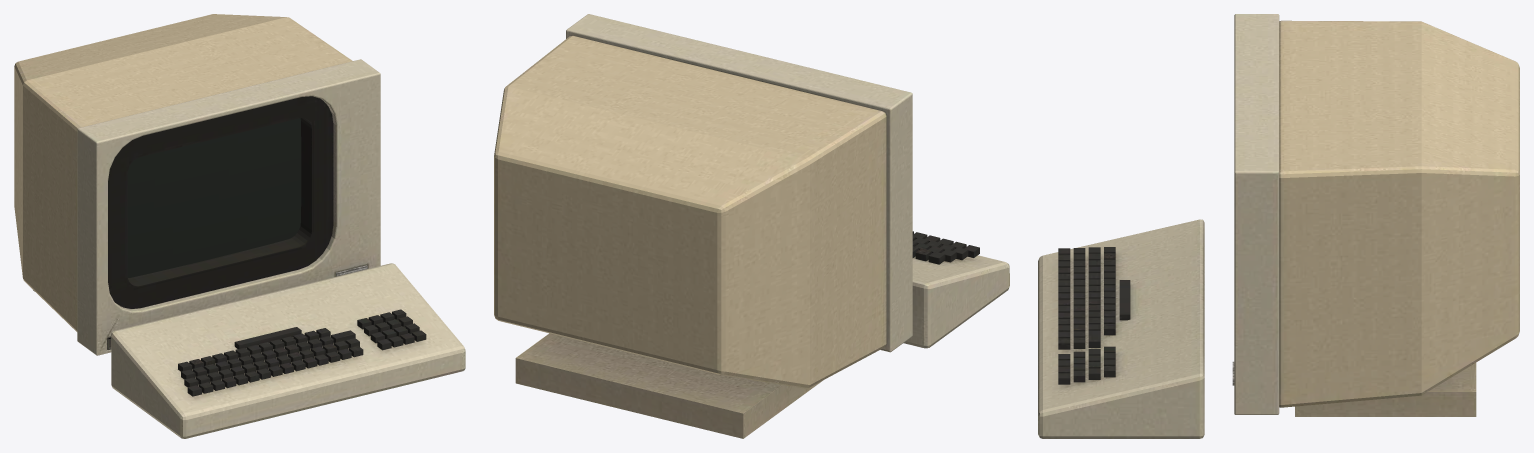
The model's file is terminal-a.glb.
3 renders of one model, left to right at view 1: azimuth 30°, elevation 25°; view 2: azimuth 150°, elevation 25°; view 3: azimuth 270°, elevation 25°, orthographic. The views are drawn at different scales.
Visible parts, largest first — view 1: case-baked, screen-glass; view 2: case-baked; view 3: case-baked.
Boxes of the visible parts, <box> form: case-baked: <box>14,14,465,438</box>; screen-glass: <box>127,118,301,277</box>; case-baked: <box>494,14,1009,438</box>; case-baked: <box>1038,14,1519,438</box>.
Bounding box in the file's own units: 0.4572 × 0.362 × 0.5875.
2 materials, 1 textured.
